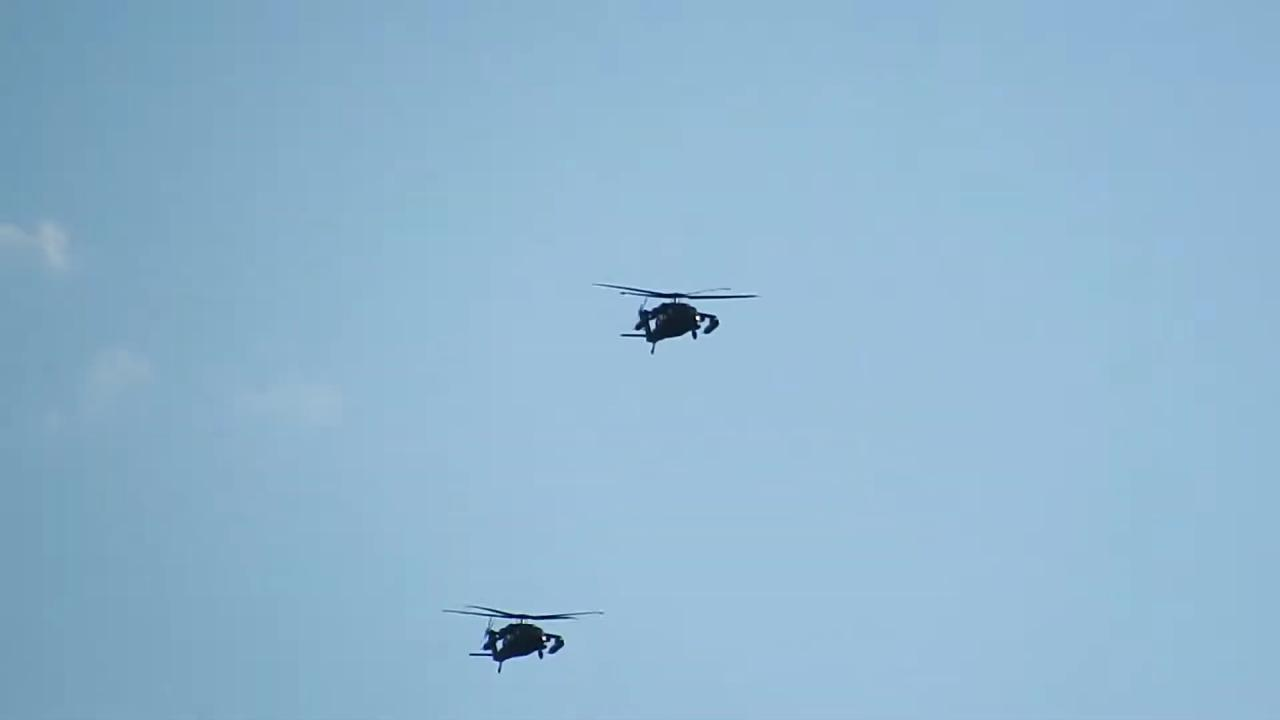Helicopter: (578, 254, 774, 382), (428, 579, 615, 696)
